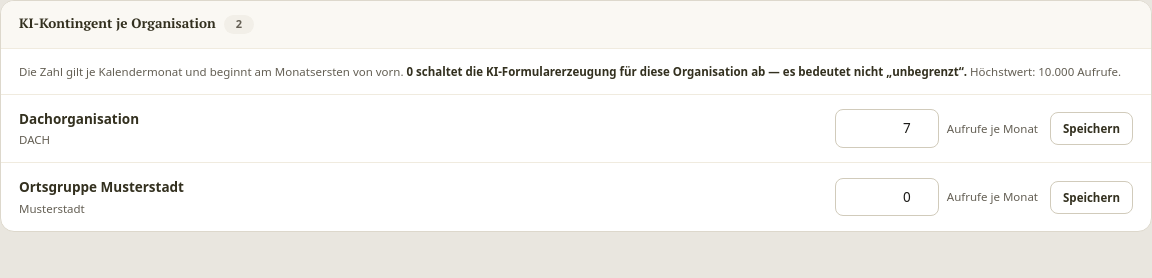
Test: KI-Kontingent je Organisation › zeigt einen 404 des Servers in der Zeile, die ihn ausgelöst hat
This screenshot has width=1152, height=278.
Replace the text in the number field labelled "Ortsgruppe Musterstadt" with "9": point(887, 197) [835, 178, 939, 216]
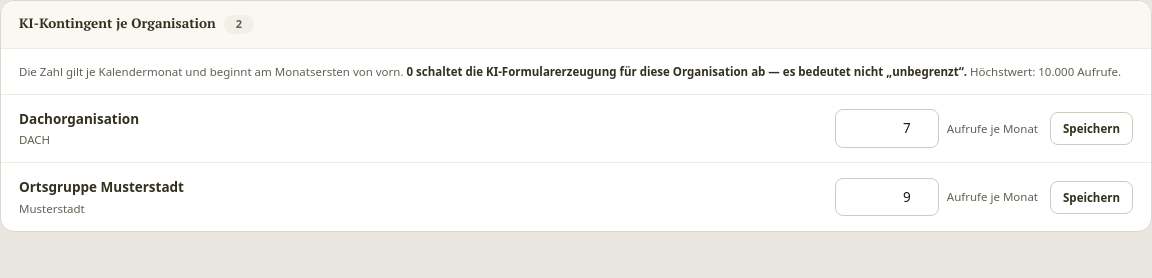
Click the button "Speichern" in the row of "Ortsgruppe Musterstadt": point(1092, 197) [1050, 180, 1133, 214]
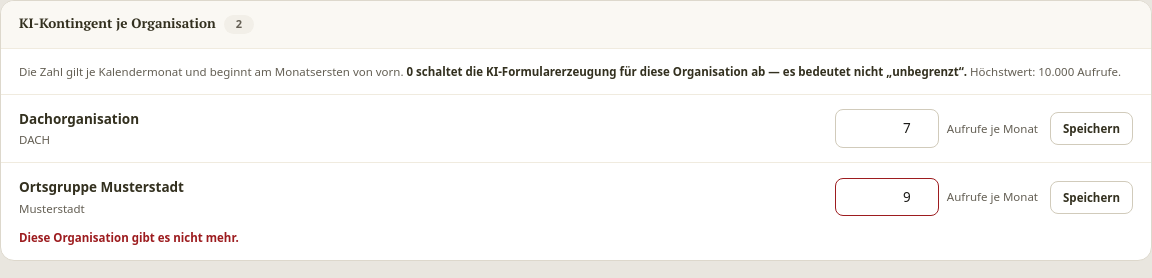
Expected: the message reads "Diese Organisation gibt es nicht mehr.", [19, 230, 239, 245]
